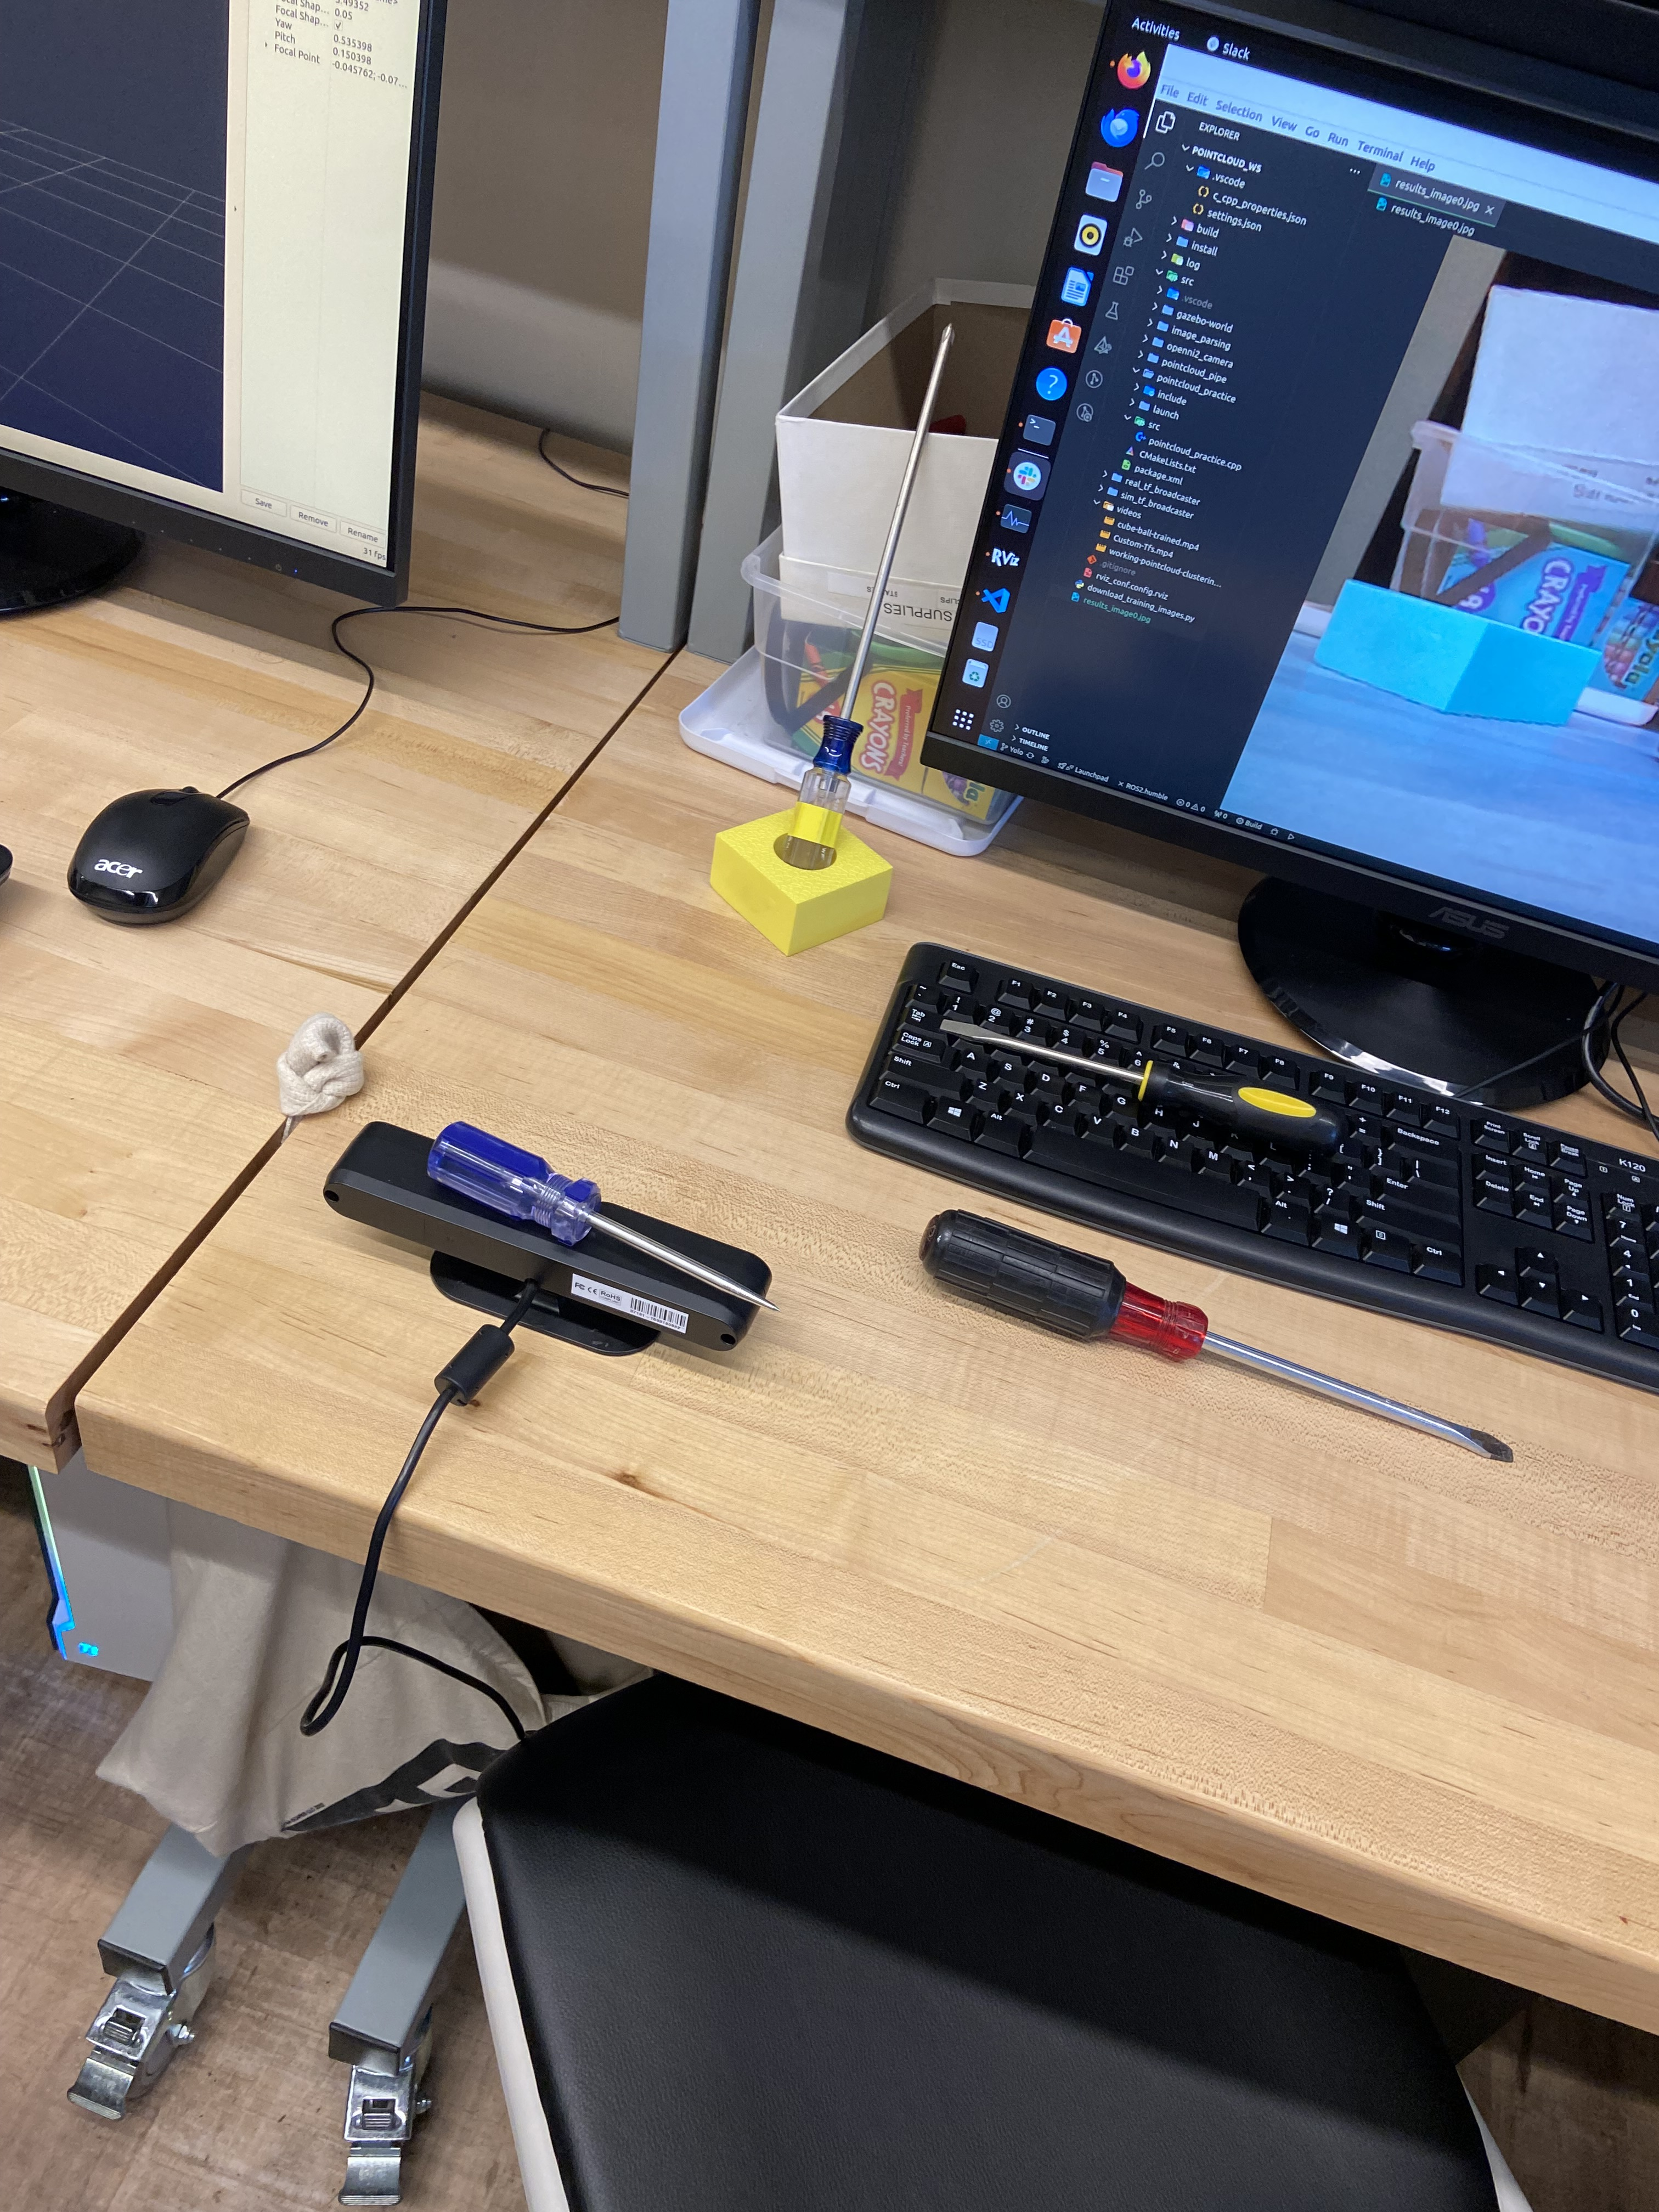screwdriver: (920, 1195, 1511, 1463), (782, 329, 957, 857), (430, 1118, 784, 1317), (939, 1008, 1342, 1129)
